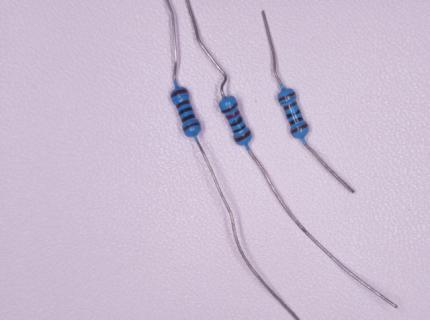Black band: (287, 108, 301, 119), (289, 116, 304, 125), (182, 114, 197, 123), (179, 107, 193, 115)
Brown band: (290, 123, 309, 134), (278, 91, 296, 102), (183, 122, 201, 132), (171, 89, 189, 98), (175, 100, 190, 109), (283, 102, 297, 111)
